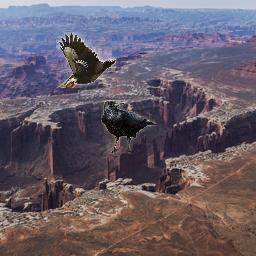Crow: (101, 100, 157, 154)
Woodpecker: (56, 32, 116, 88)
